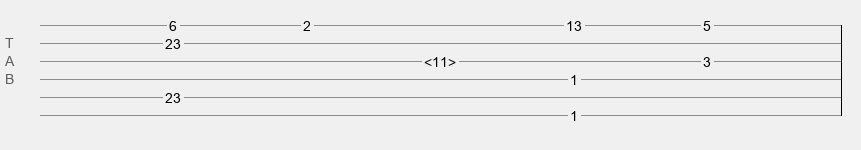1: (570, 108, 578, 118), (570, 72, 578, 82)
13: (566, 18, 582, 28)
2: (303, 18, 311, 28)
23: (165, 90, 181, 100), (165, 36, 181, 46)
3: (703, 54, 711, 64)
5: (703, 18, 711, 28)
6: (169, 18, 177, 28)
harmonic: (424, 54, 456, 64)
